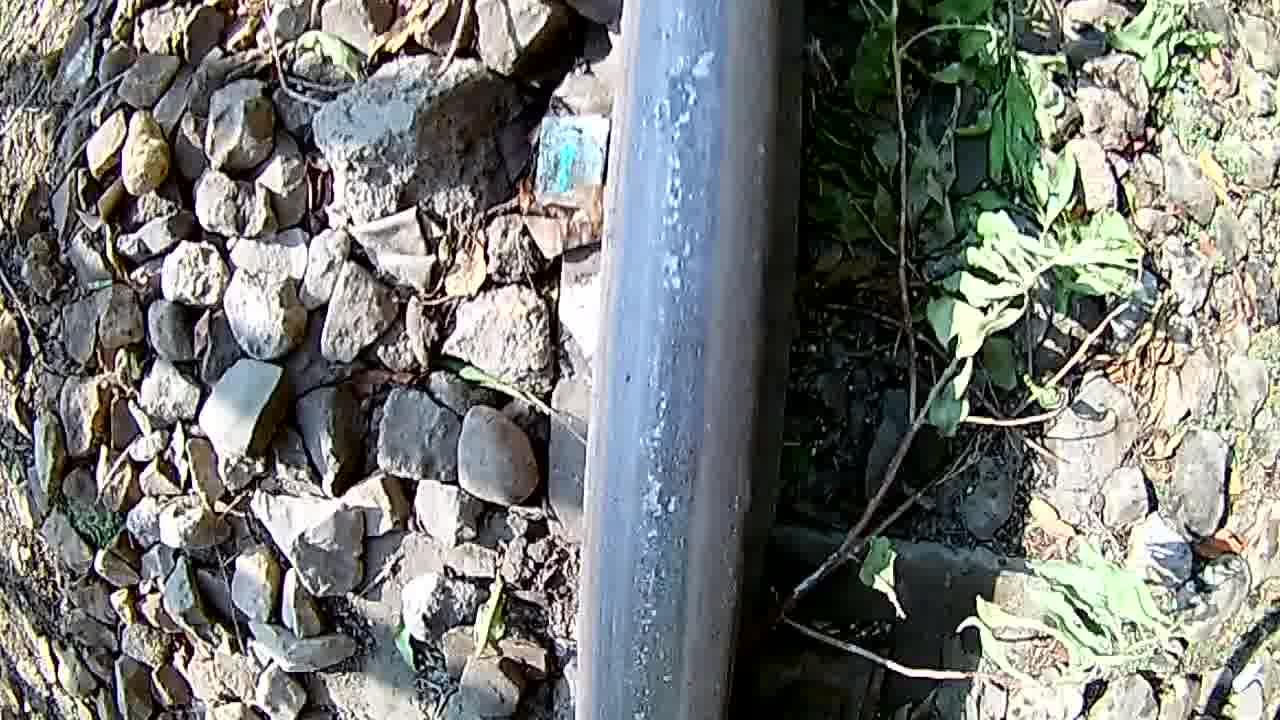crack: (603, 0, 769, 720)
